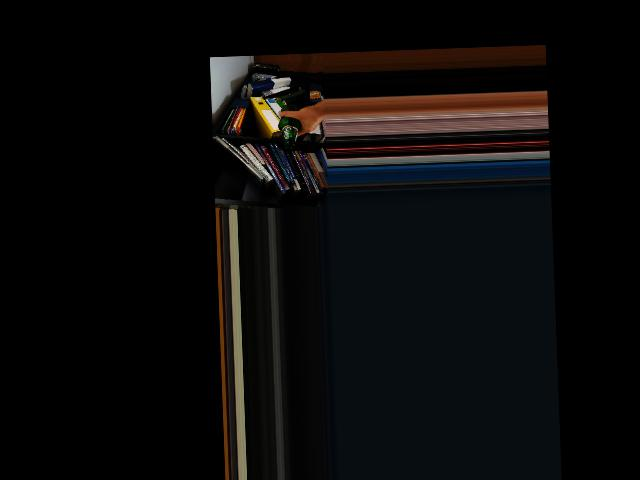beer: (278, 102, 302, 149)
